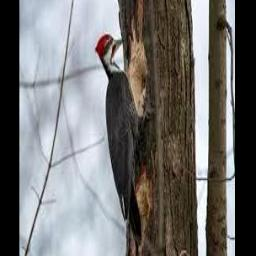Woodpecker: (95, 33, 150, 256)
